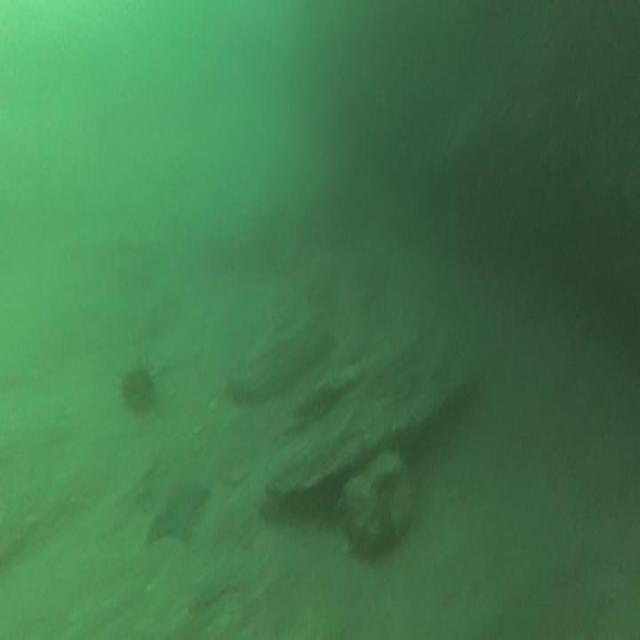echinus: (124, 373, 156, 416)
starfish: (141, 468, 207, 544)
